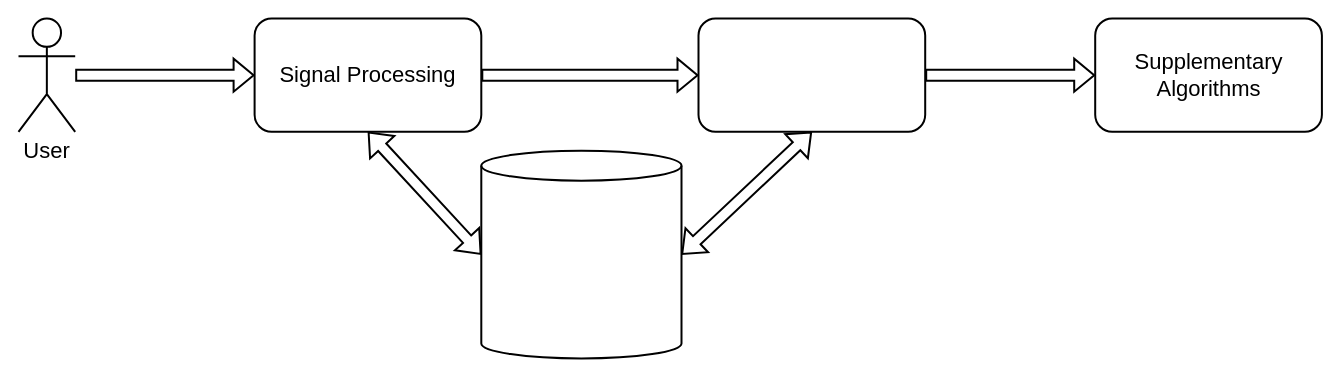
Some shapes in this 1340 by 376 pixel diagram are drawn without their labels. Here are the shapes that lost their labels. From the top down, the centre of each, then its label:
At point 811,74: "Machine Learning Algorithms".
At point 581,254: "Dataset Collection and Management".
